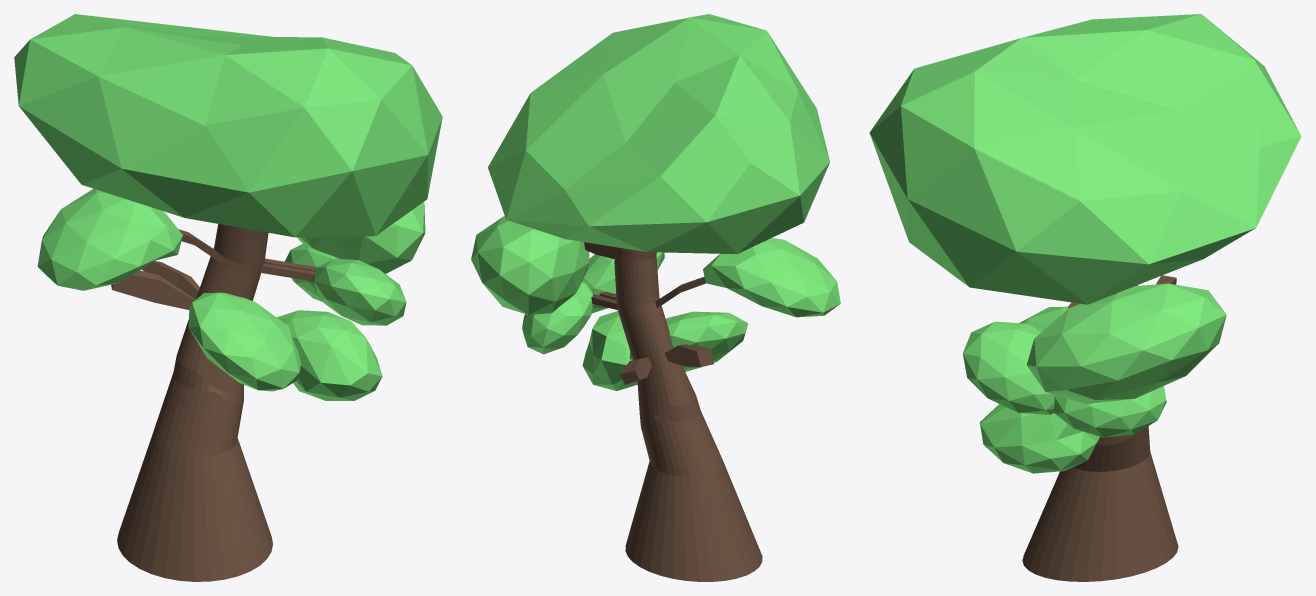
File: Tree3.gltf
The picture shows the model from 3 angles, left to right: view 1: azimuth 30°, elevation 25°; view 2: azimuth 150°, elevation 25°; view 3: azimuth 270°, elevation 25°; orthographic projection. The views are drawn at different scales.
Visible parts, largest first — view 1: Cylinder; view 2: Cylinder; view 3: Cylinder.
Part boxes in pixels (x1=…): Cylinder: x1=14, y1=14, x2=442, y2=581; Cylinder: x1=471, y1=14, x2=840, y2=581; Cylinder: x1=869, y1=14, x2=1301, y2=581.
Bounding box in the file's own units: 10.13 × 13.86 × 10.39.
